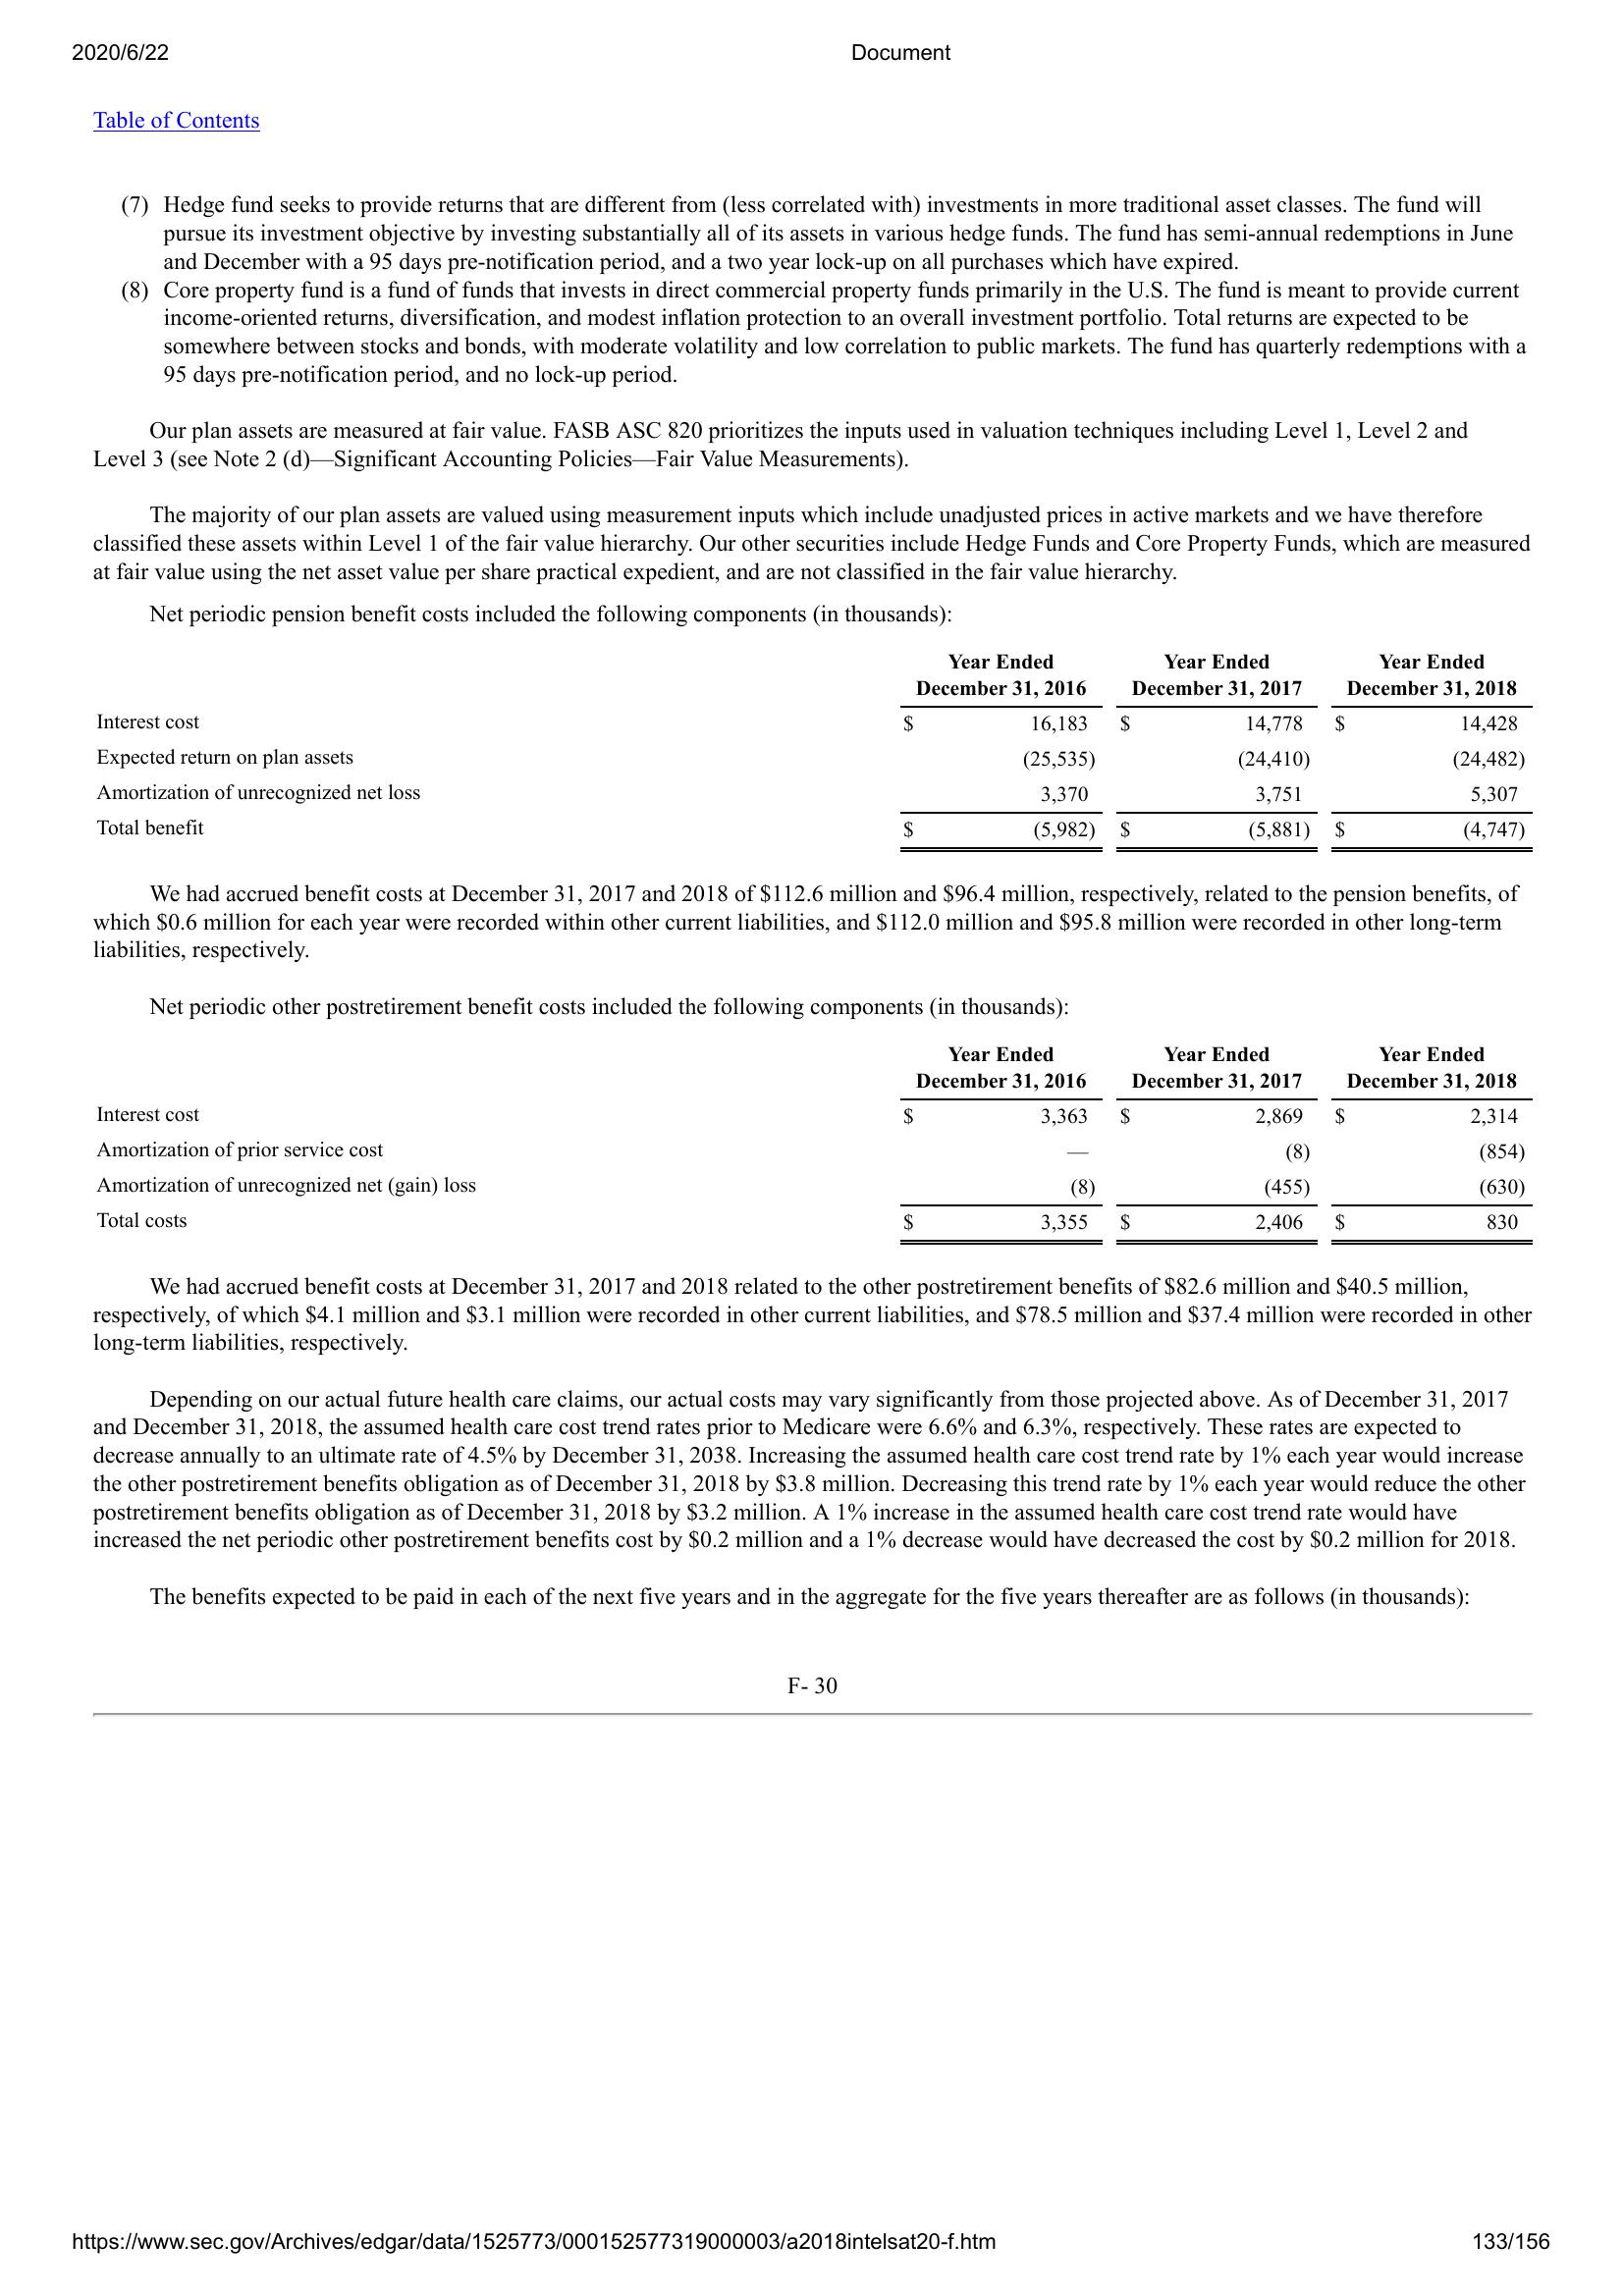table: (91, 649, 1542, 858), (88, 1044, 1530, 1250)
